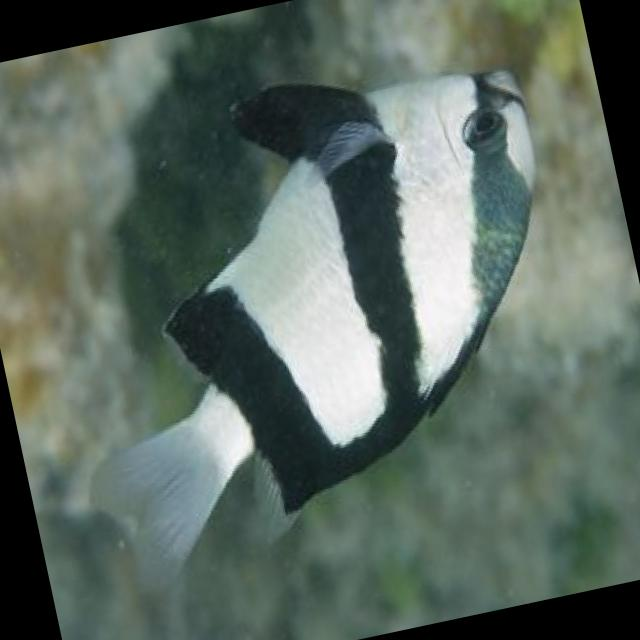ThreeStripedDamselfish: (101, 63, 536, 559)
